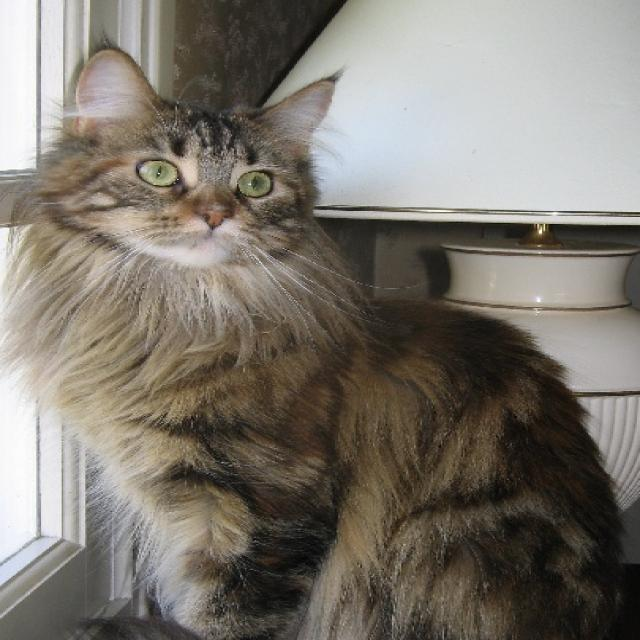Maine Coon: (0, 33, 629, 640)
